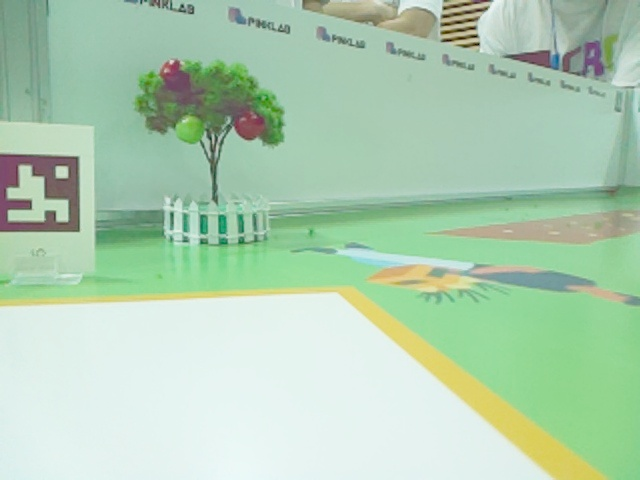apple: (235, 112, 264, 139), (162, 62, 179, 79)
